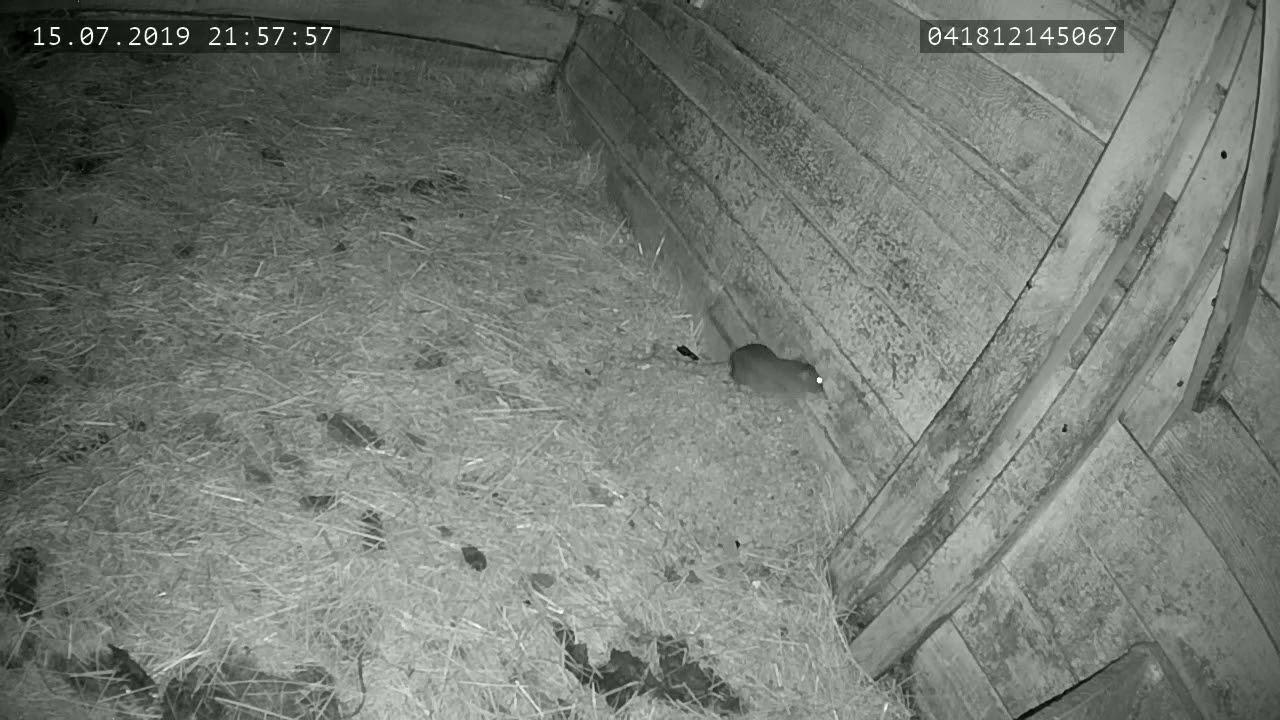rat: (730, 343, 822, 396)
